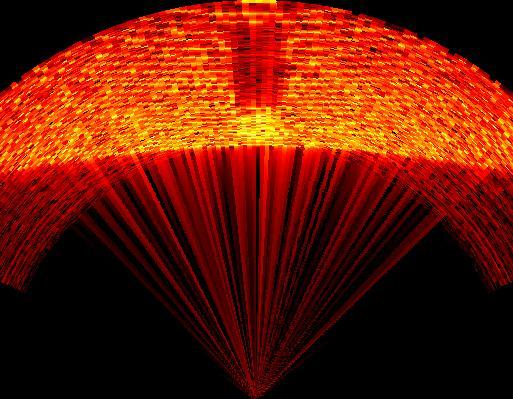box_crate: (228, 20, 287, 110)
